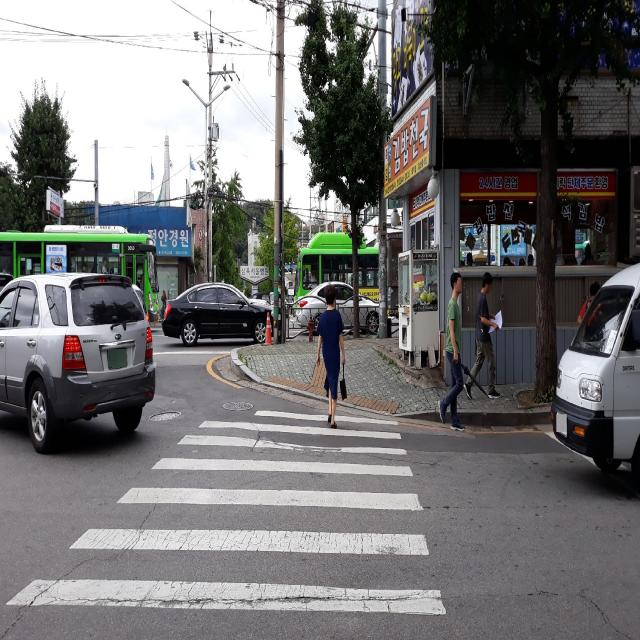횡단보도: (3, 405, 448, 622)
